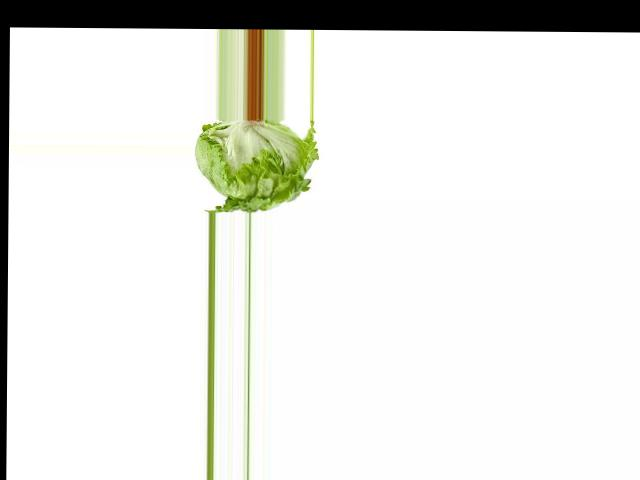lettuce: (190, 118, 323, 212)
